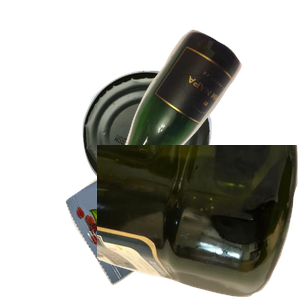glass: (87, 27, 300, 207)
metal: (80, 68, 284, 248)
plastic: (97, 145, 300, 300)
trash: (63, 137, 289, 300)
